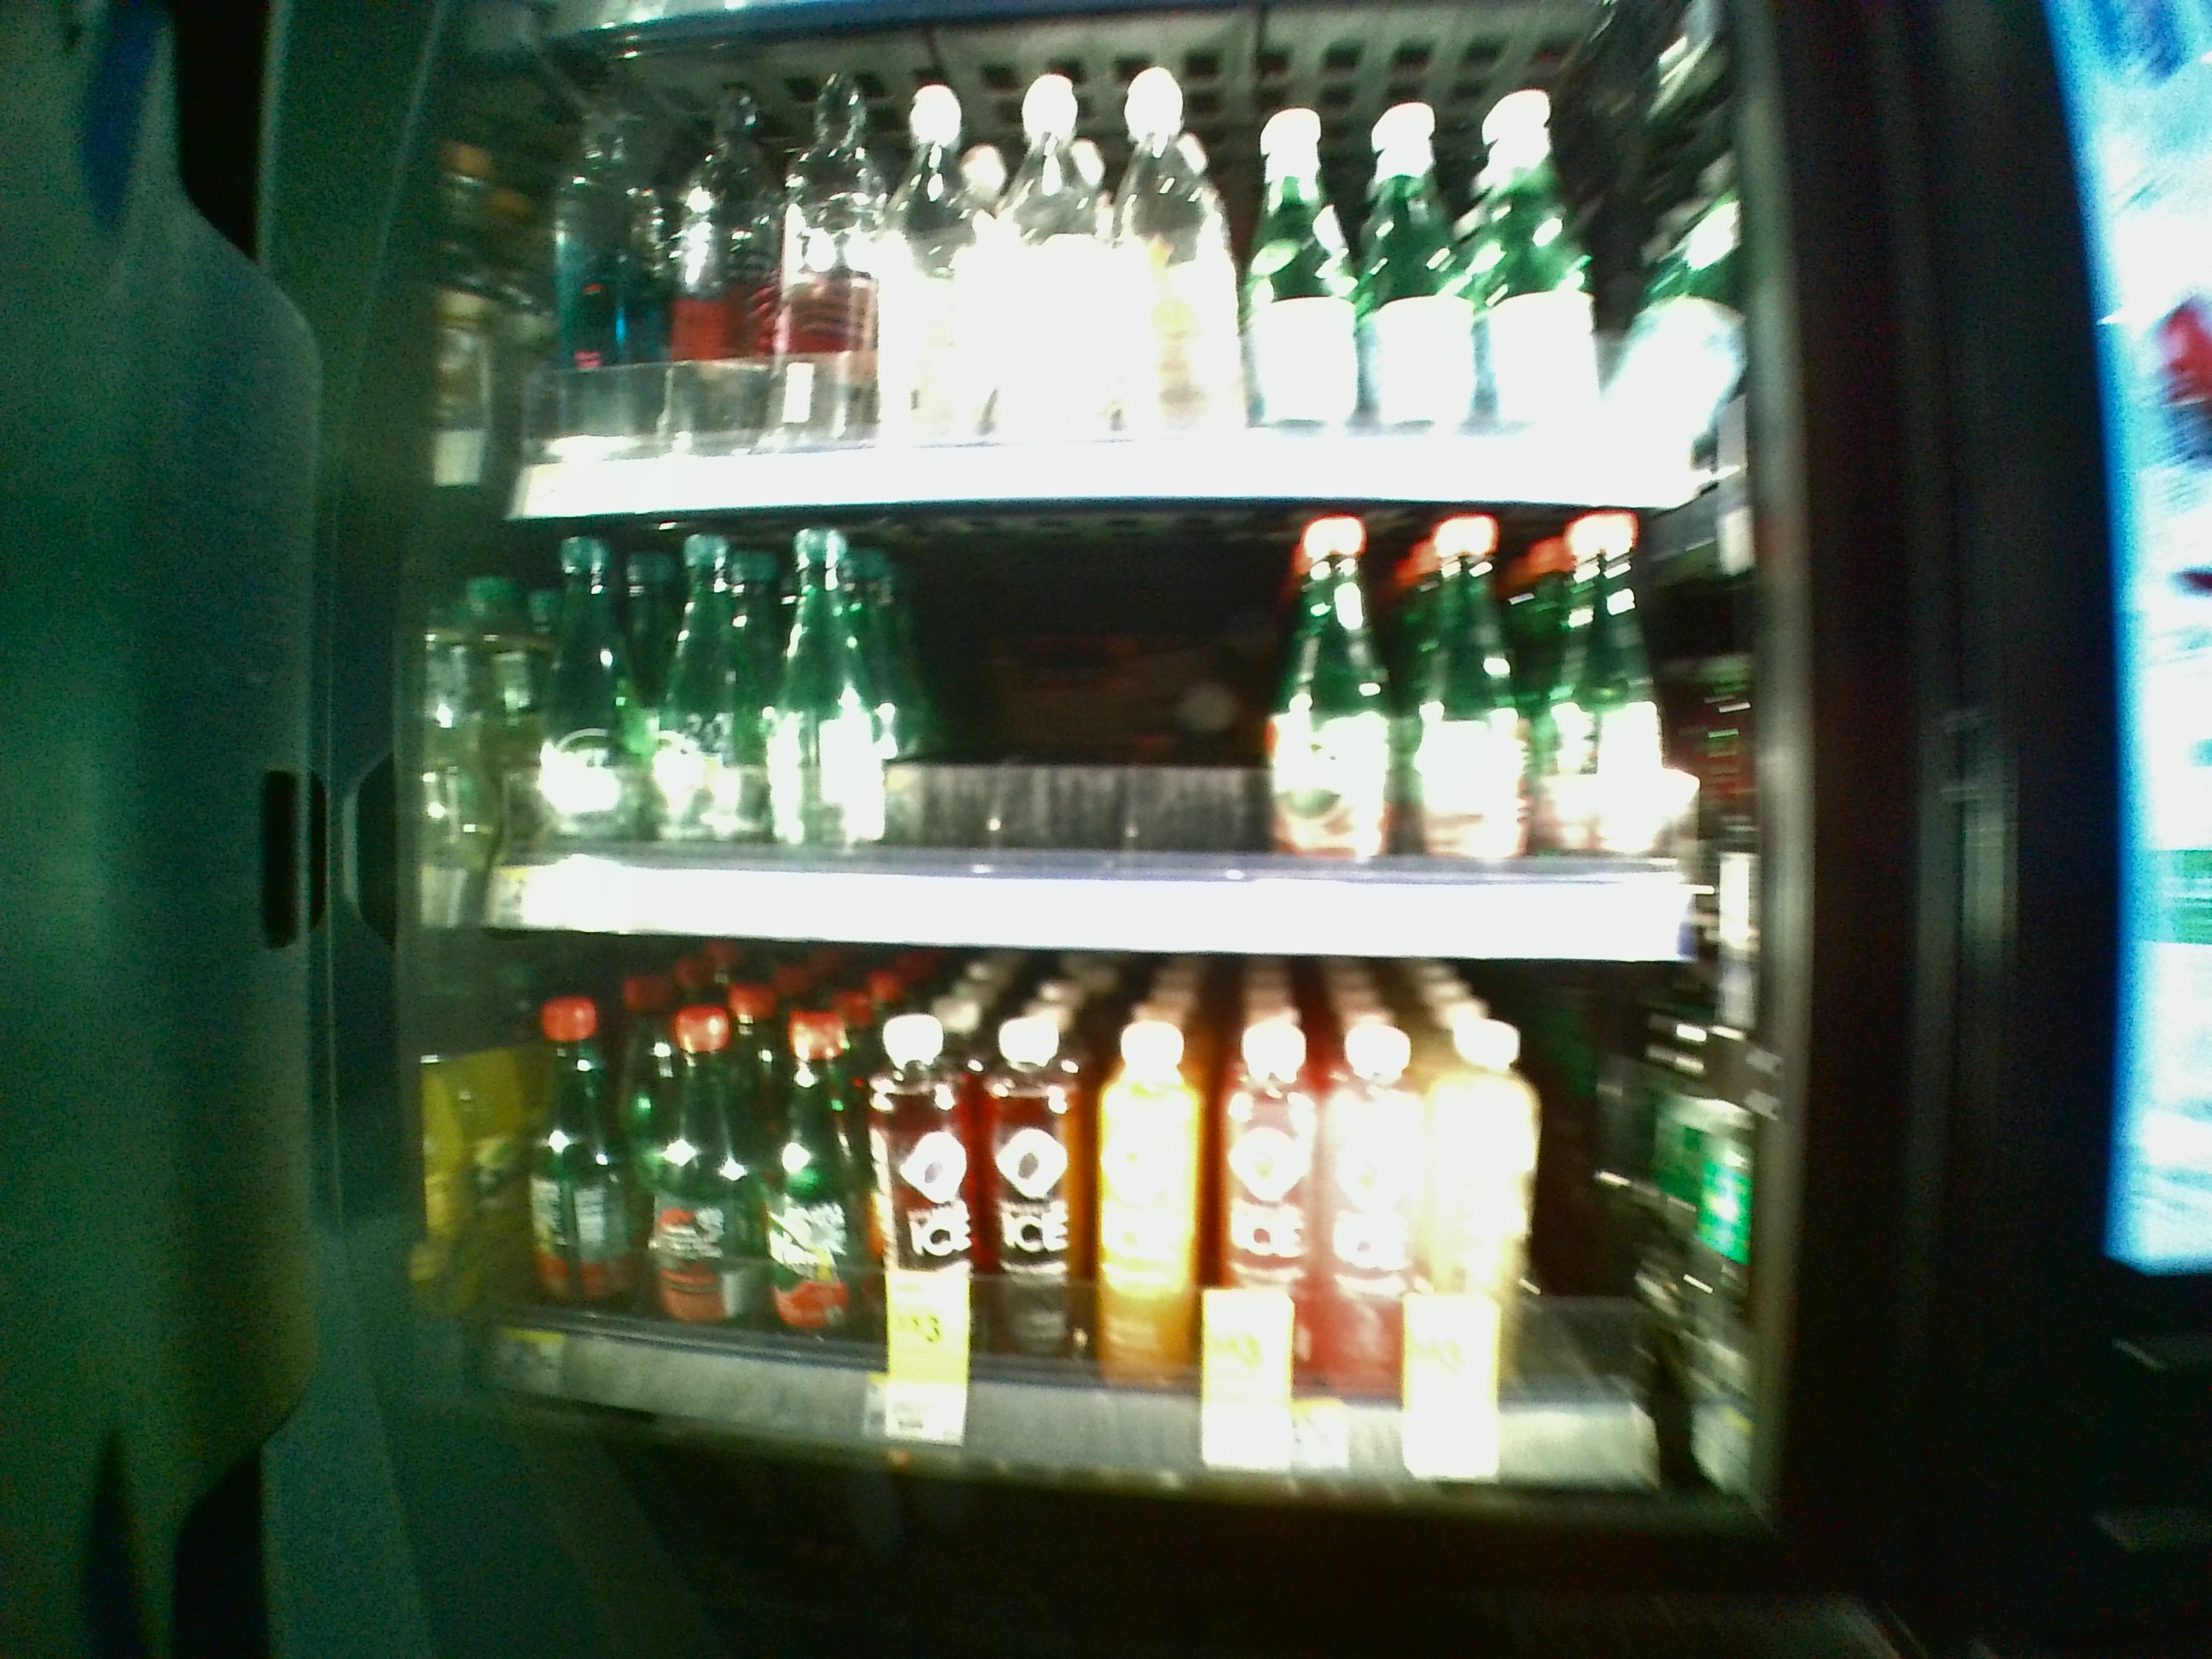shelf: (460, 958, 1770, 1502), (462, 511, 1766, 962)
